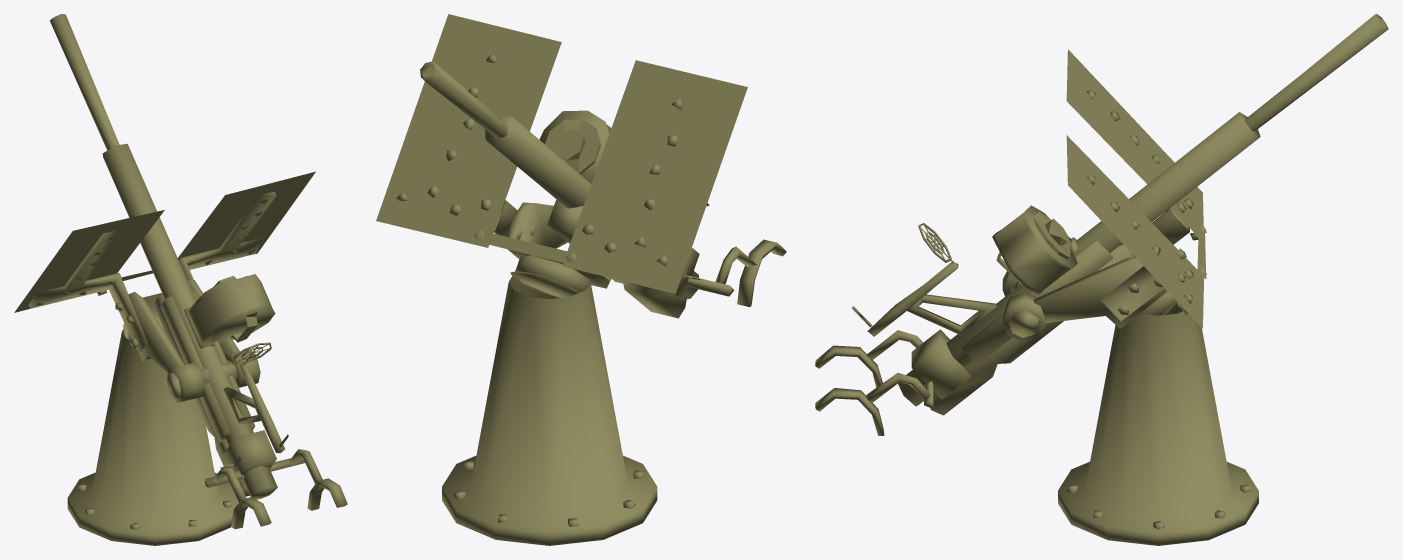
File: 20MMOerlikonLOD0.glb
3 views of the same model, side by side, from view 1: azimuth 30°, elevation 25°; view 2: azimuth 150°, elevation 25°; view 3: azimuth 270°, elevation 25° (orthographic). The views are drawn at different scales.
Visible parts, largest first — view 1: 20mm.010; view 2: 20mm.010; view 3: 20mm.010.
Part boxes in pixels (x1,y1,x2,y2): 20mm.010: (14,14,347,545); 20mm.010: (376,14,786,545); 20mm.010: (815,14,1388,545).
Size of the model in its own units: 3.99 by 6.68 by 7.1.
